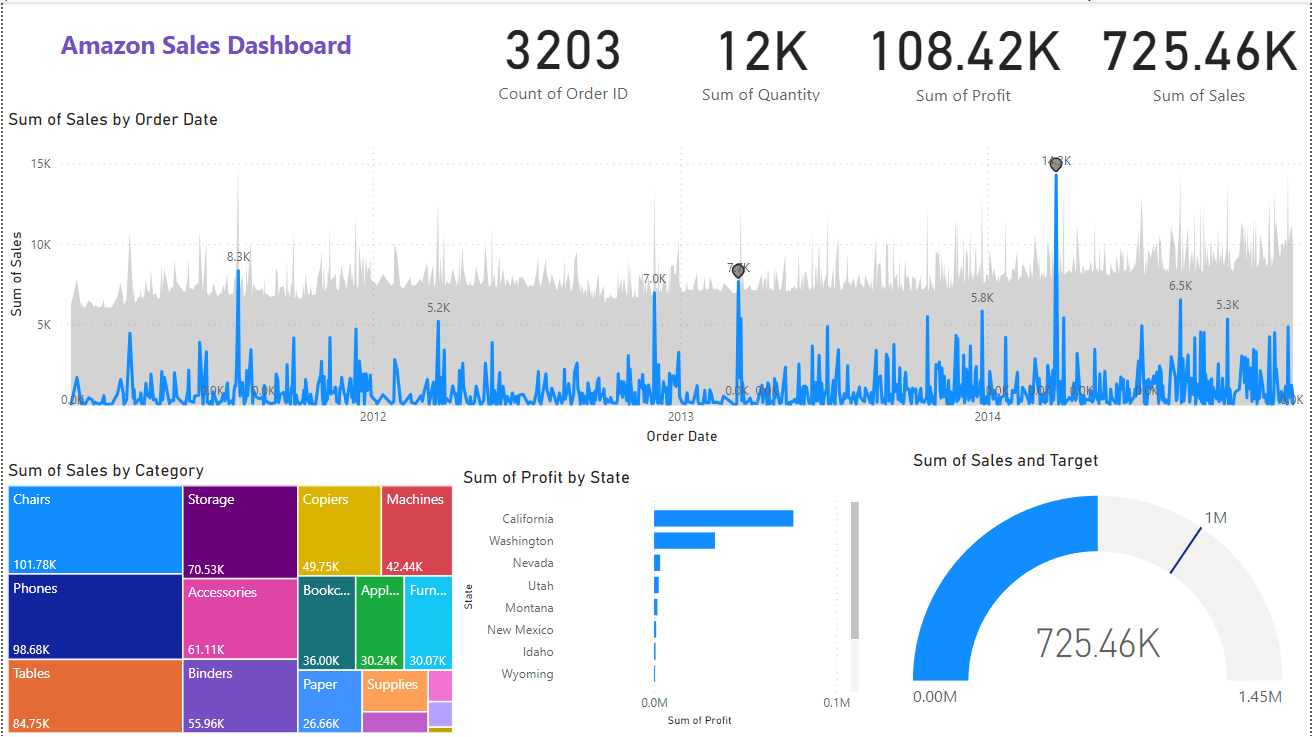

The dashboard page shown, as its layout file describes it:
{"tool":"powerbi","page":{"name":"Page 1","canvas":[1280,720],"ordinal":0},"visuals":[{"type":"card","fields":{"Values":["Sum(Walmart.Sales)"]},"box":[1059.8,0,220,103.9],"z":0},{"type":"card","fields":{"Values":["Sum(Walmart.Profit)"]},"box":[819,0,240.8,103.9],"z":1000},{"type":"card","fields":{"Values":["Sum(Walmart.Quantity)"]},"box":[640.5,0,201.7,102.7],"z":2000},{"type":"card","fields":{"Values":["CountNonNull(Walmart.Order ID)"]},"box":[456,0,184.6,101.5],"z":3000},{"type":"lineChart","fields":{"Category":["Walmart.Order Date"],"Y":["Sum(Walmart.Sales)"]},"box":[0,103.9,1279.9,333.7],"z":4000},{"type":"treemap","fields":{"Group":["Walmart.Category"],"Values":["Sum(Walmart.Sales)"]},"box":[0,447.4,445,272.6],"z":5000},{"type":"barChart","fields":{"Category":["Walmart.State"],"Y":["Sum(Walmart.Profit)"]},"box":[445,454.7,397.3,259.2],"z":6000},{"type":"gauge","fields":{"Y":["Sum(Walmart.Sales)"],"TargetValue":["Walmart.Target"]},"box":[885,437.6,371.6,282.4],"z":7000},{"type":"textbox","box":[51.3,20.8,315.4,47.7],"z":8000}]}

Visuals, with their boxes in screenshot pixels (x1, y1, x2, y2), scaled from the page's 1280x720 canvas onto the 1312x737 screenshot:
card - Sum(Walmart.Sales): left=1086, top=0, right=1311, bottom=106
card - Sum(Walmart.Profit): left=839, top=0, right=1086, bottom=106
card - Sum(Walmart.Quantity): left=657, top=0, right=863, bottom=105
card - CountNonNull(Walmart.Order ID): left=467, top=0, right=657, bottom=104
lineChart - Walmart.Order Date x Sum(Walmart.Sales): left=0, top=106, right=1311, bottom=448
treemap - Walmart.Category x Sum(Walmart.Sales): left=0, top=458, right=456, bottom=736
barChart - Walmart.State x Sum(Walmart.Profit): left=456, top=465, right=863, bottom=731
gauge - Sum(Walmart.Sales) x Walmart.Target: left=907, top=448, right=1288, bottom=736
textbox: left=53, top=21, right=376, bottom=70
